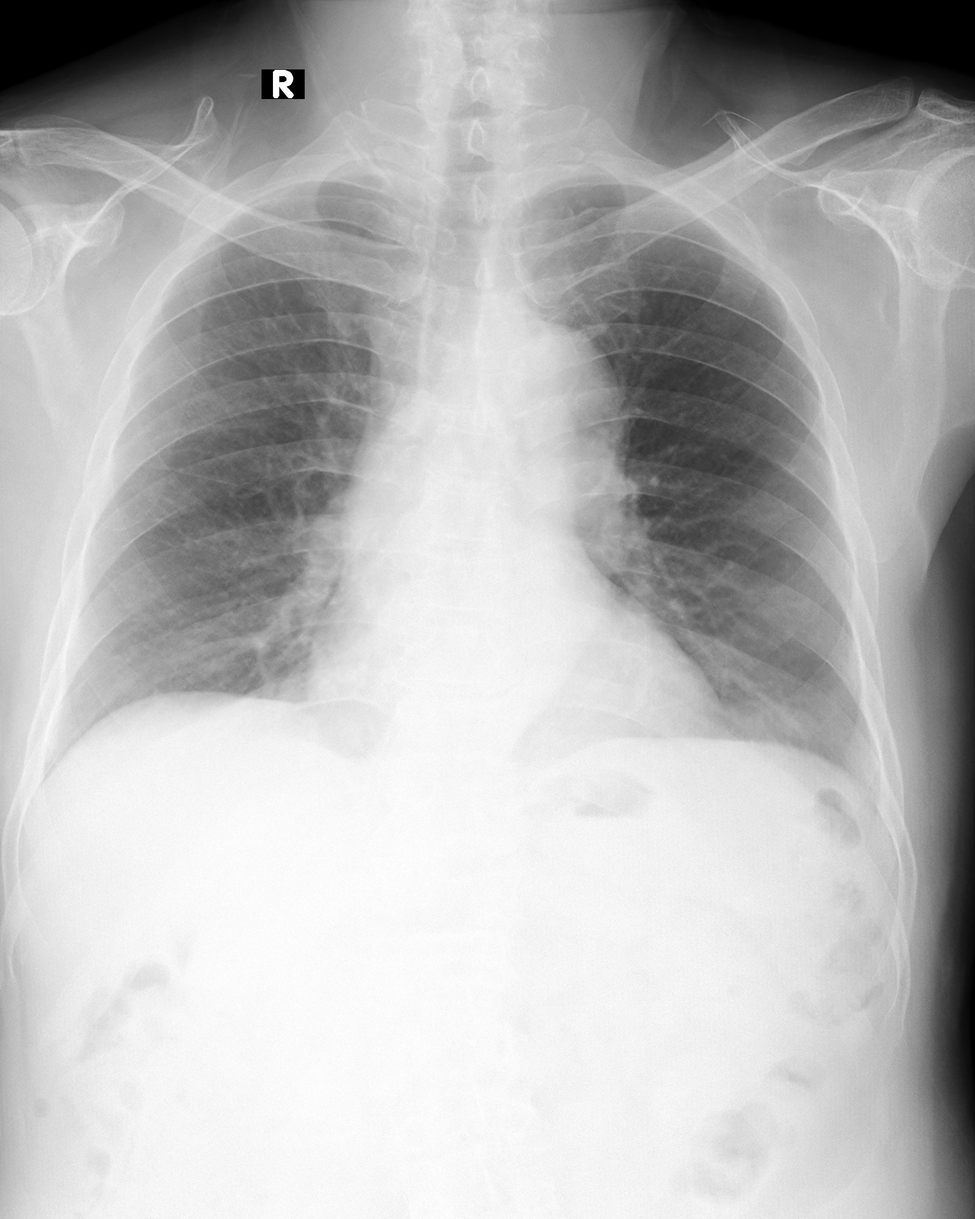Aortic enlargement: (474, 313, 625, 492)
Cardiomegaly: (298, 645, 735, 784)
Pleural thickening: (507, 178, 608, 202)
